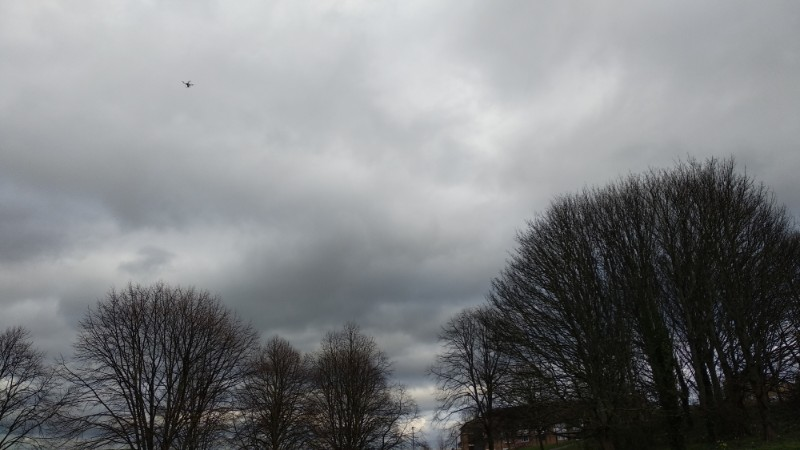drone: (182, 79, 196, 88)
